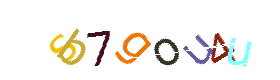4: (179, 0, 259, 80)
7: (93, 0, 173, 80)
B: (88, 0, 168, 80)
G: (95, 0, 175, 80)
O: (99, 0, 179, 80)
S: (32, 0, 112, 80)
U: (153, 0, 233, 80), (198, 0, 278, 80)
